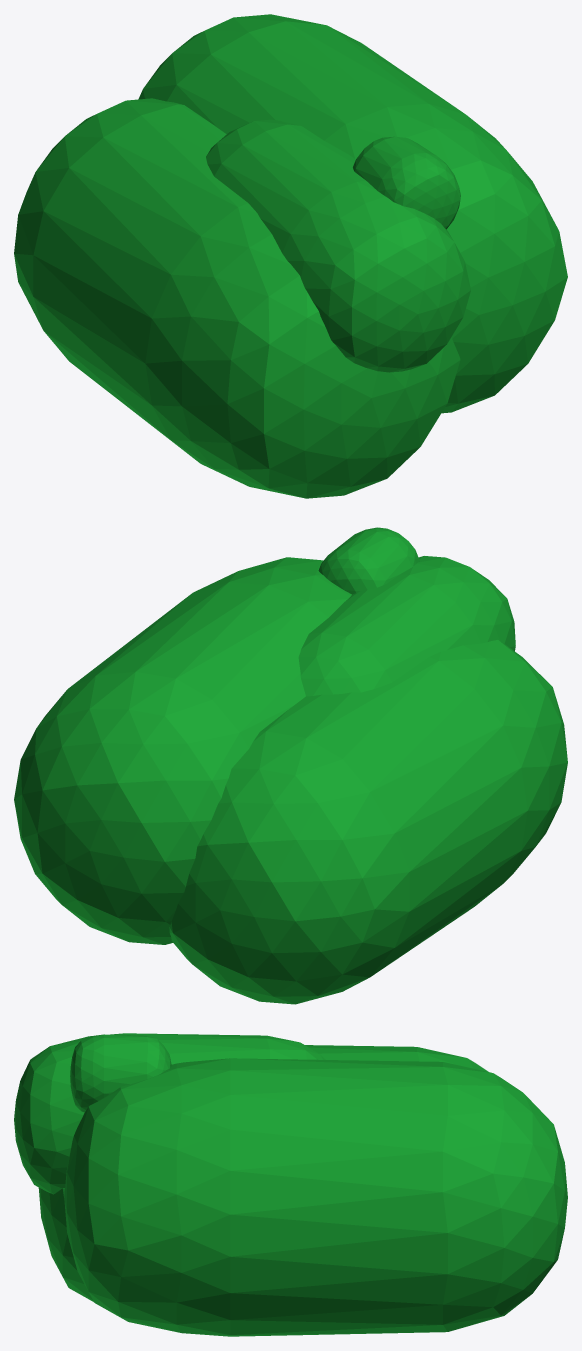
Rendered from Bush2.fbx.
The picture shows the model from 3 angles, top to bottom: view 1: azimuth 30°, elevation 25°; view 2: azimuth 150°, elevation 25°; view 3: azimuth 270°, elevation 25°; orthographic projection. The views are drawn at different scales.
Visible parts, largest first — view 1: Icosphere; view 2: Icosphere; view 3: Icosphere.
Part boxes in pixels (box(x1,y1,x2,y2)): Icosphere: box(14, 14, 567, 498); Icosphere: box(14, 527, 567, 1004); Icosphere: box(14, 1033, 567, 1336).
Bounding box in the file's own units: 1308 × 1085 × 1778.
Materials: 1 (1 with a texture image).
